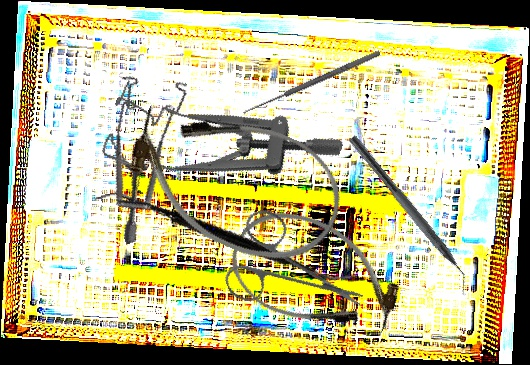Cannula: (110, 80, 360, 283), (217, 193, 414, 357)
Chopper: (338, 134, 480, 298)
Hook Surgical: (241, 48, 384, 122)
Iris Scissors: (205, 186, 367, 350)
Spatula Surgical: (94, 148, 352, 329)
Speculum: (96, 60, 346, 233), (76, 59, 229, 245)
